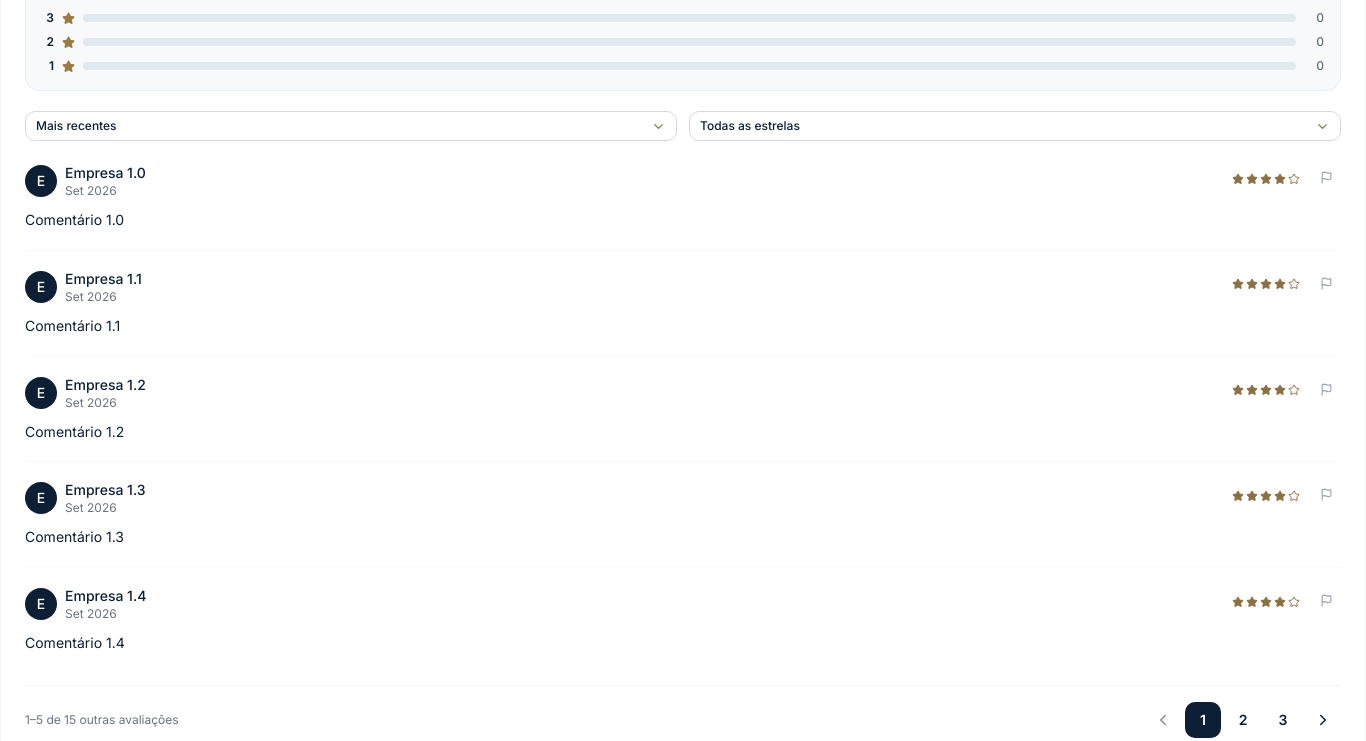
Test: Avaliações do perfil público: filtros e página no endereço › mudar de página escreve-a no endereço
The image size is (1366, 741).
(page scrolled)
Expected: the text "Empresa 1.0" is shown, [65, 163, 146, 183]
Click the button named "Página 2" at (1243, 720), box [1225, 702, 1261, 738]
(page scrolled)
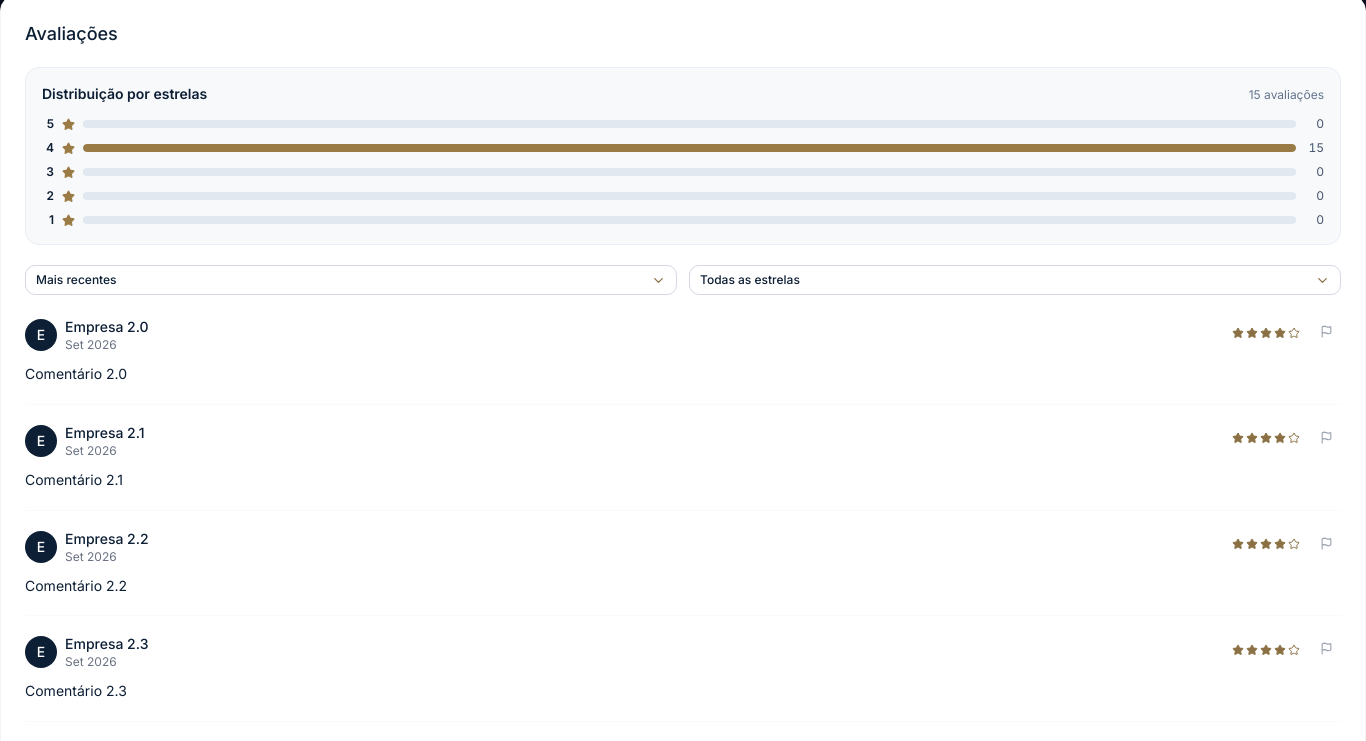
Expected: the text "Empresa 2.0" is shown, [65, 317, 149, 337]
